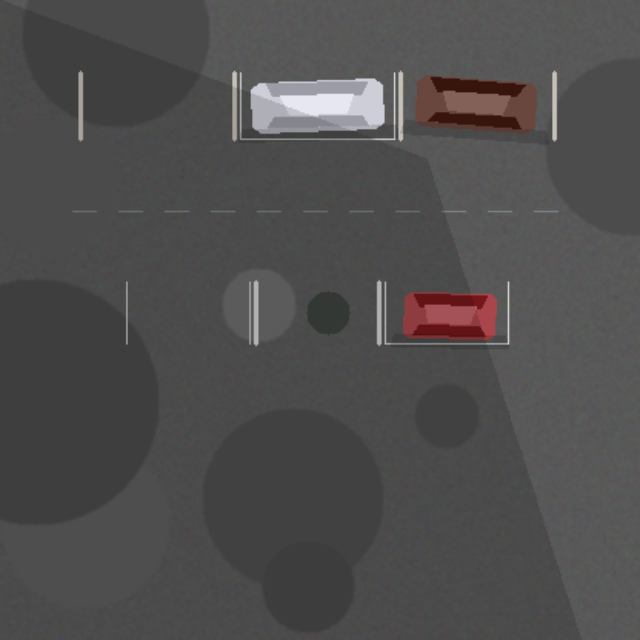space-empty: (80, 72, 234, 138), (126, 282, 249, 343), (255, 282, 378, 343)
space-occupied: (240, 72, 394, 138), (400, 72, 554, 138), (385, 282, 508, 343)
